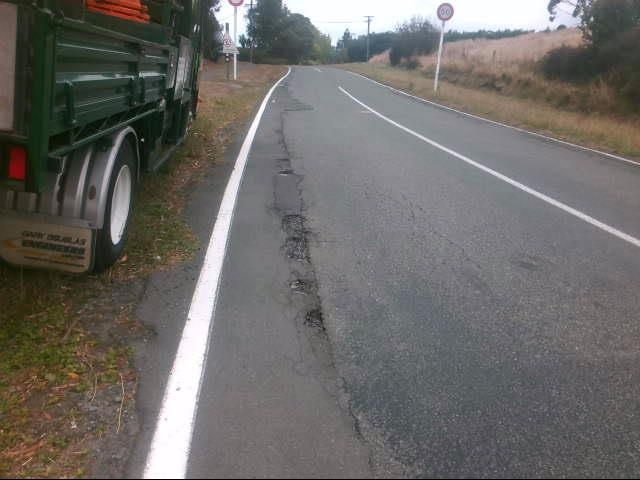pothole: (282, 210, 313, 264), (303, 308, 327, 334), (289, 276, 316, 296)
